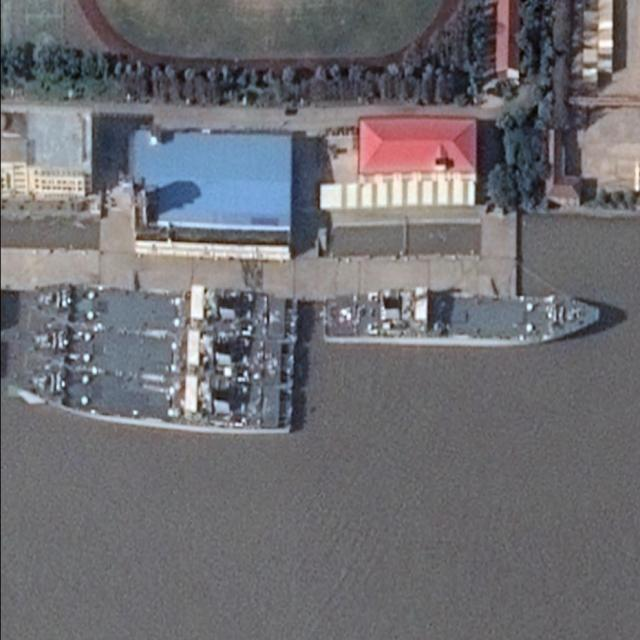Landing: (19, 361, 295, 434), (26, 319, 295, 385), (321, 288, 601, 344), (24, 283, 298, 335)
